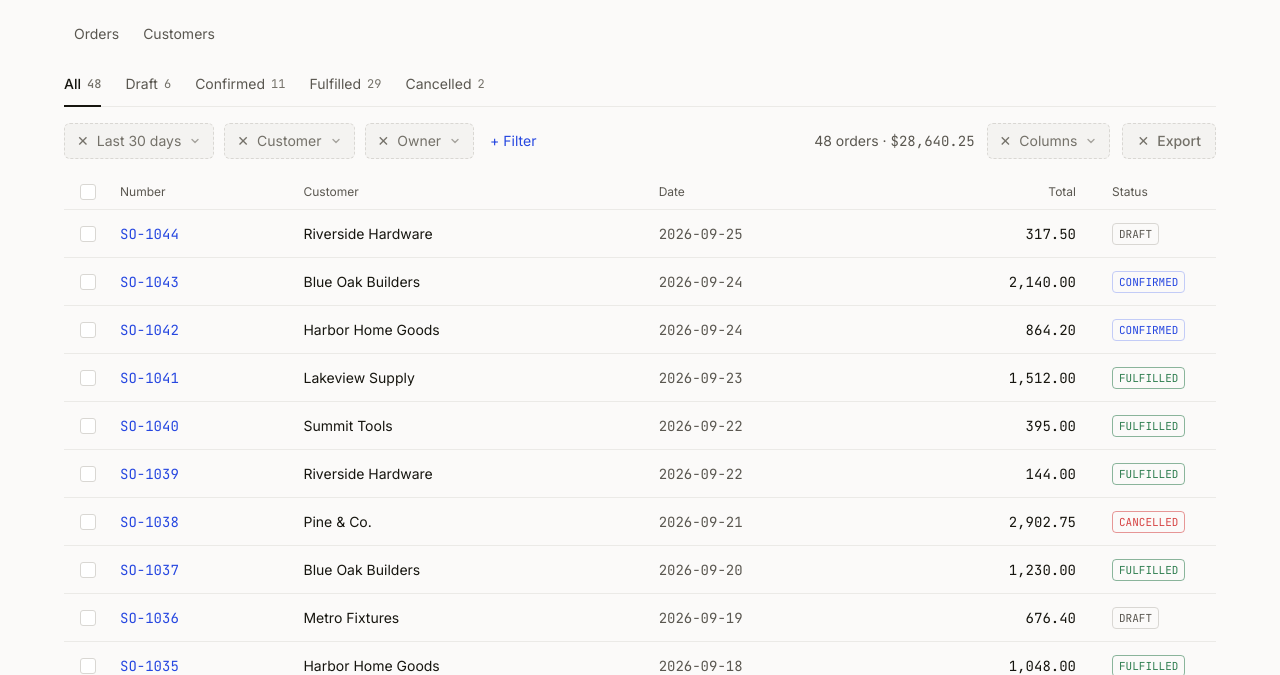
Test: OrdersScreen › counts multiple selected rows
This screenshot has width=1280, height=675.
Click the checkbox named "Select SO-1044" at (88, 234), box 80,226 -> 96,242
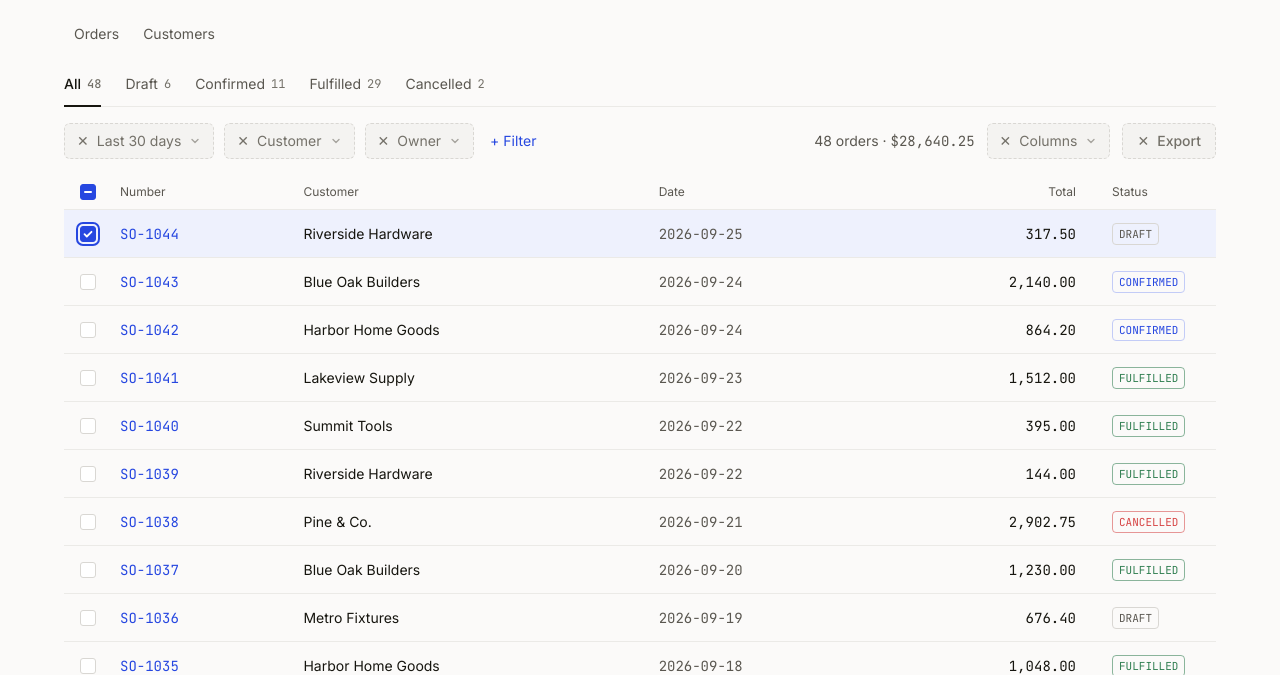
Click the checkbox named "Select SO-1036" at (88, 618), box 80,610 -> 96,626
(page scrolled)
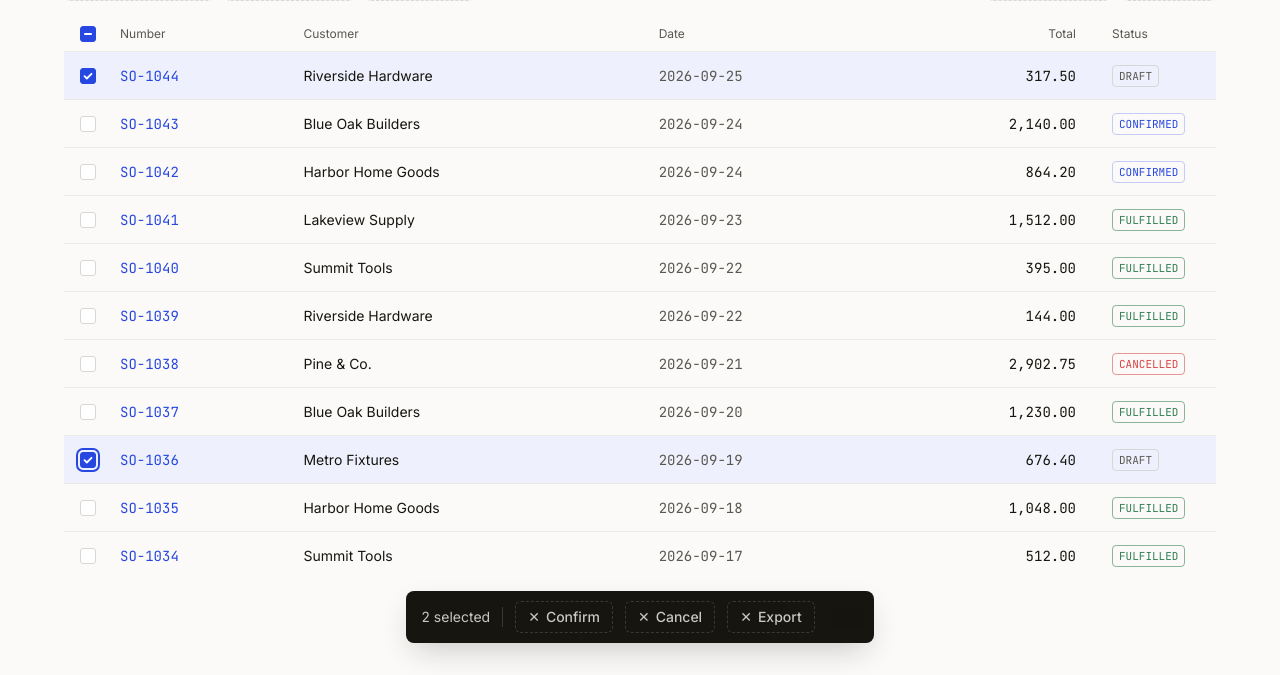
Expected: the text "2" is shown, 422,608 -> 430,626
